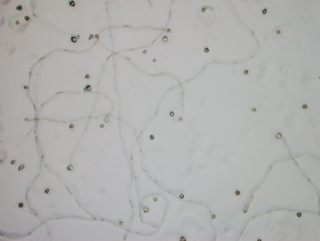germinated: (274, 132, 288, 146), (65, 156, 75, 170), (138, 203, 149, 213), (200, 5, 213, 13), (103, 110, 111, 123), (162, 32, 170, 41)
nongerminated: (250, 104, 260, 115), (68, 35, 78, 45), (300, 101, 309, 112), (16, 164, 27, 173), (260, 6, 270, 15), (202, 45, 212, 54), (241, 67, 250, 76), (83, 83, 92, 92), (42, 185, 51, 194), (273, 27, 283, 35), (15, 3, 25, 11), (168, 109, 176, 118), (148, 133, 156, 142), (294, 209, 303, 217), (151, 194, 159, 203), (93, 31, 101, 40), (67, 0, 76, 8), (86, 32, 94, 41), (67, 122, 76, 130), (234, 188, 242, 196), (210, 212, 218, 220), (117, 218, 125, 226), (178, 192, 187, 199), (140, 48, 149, 55), (83, 72, 92, 79), (13, 18, 22, 25), (150, 57, 159, 64), (22, 14, 30, 21), (9, 159, 17, 166), (17, 201, 24, 209), (21, 84, 28, 91)
